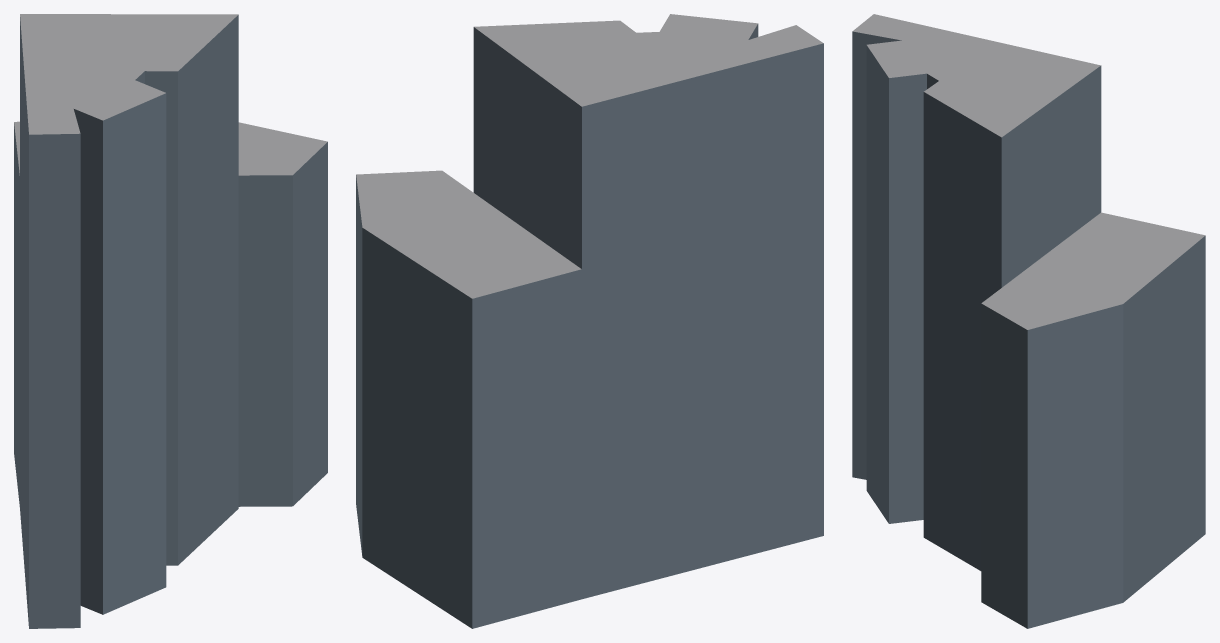
File: building_1_-6.glb
3 views of the same model, side by side, from view 1: azimuth 30°, elevation 25°; view 2: azimuth 150°, elevation 25°; view 3: azimuth 270°, elevation 25° (orthographic). The views are drawn at different scales.
Parts seen in each view (by area): view 1: glass_dark, roof; view 2: glass_dark, roof; view 3: glass_dark, roof.
Part boxes in pixels (x1,y1,x2,y2): glass_dark: [14, 15, 327, 628]; roof: [14, 14, 327, 175]; glass_dark: [356, 24, 823, 628]; roof: [356, 14, 823, 298]; glass_dark: [852, 31, 1205, 628]; roof: [852, 14, 1205, 329].
Bounding box in the file's own units: 227 × 279 × 200.
